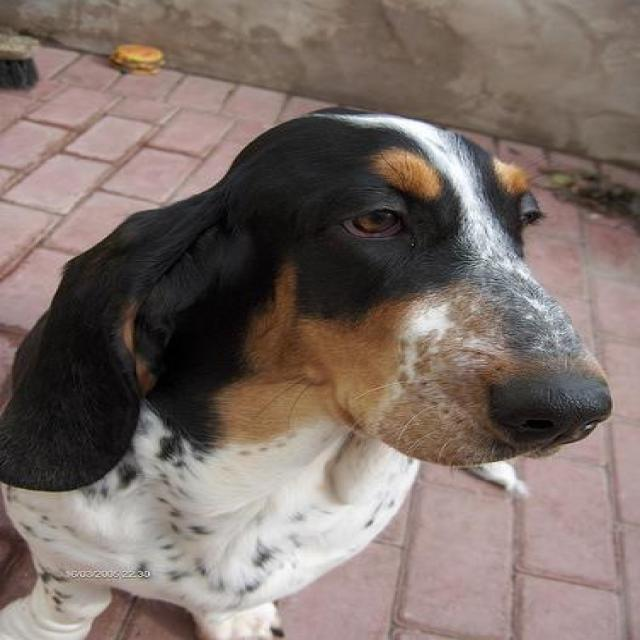basset: (2, 103, 616, 638)
